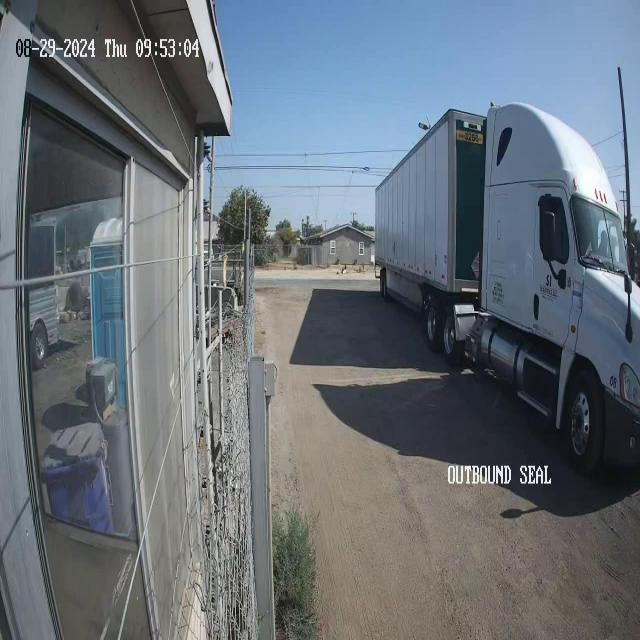TRUCK_IN: (373, 100, 639, 477)
